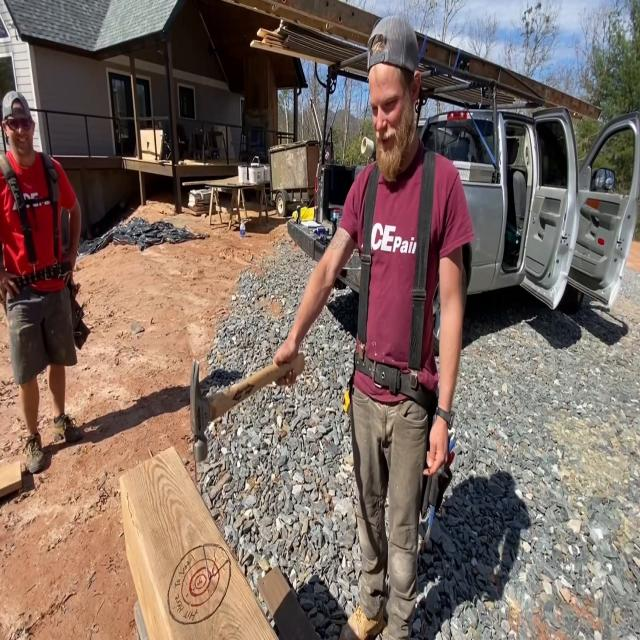hammer: (190, 353, 304, 461)
